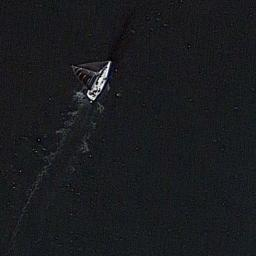boat: (70, 59, 112, 102)
